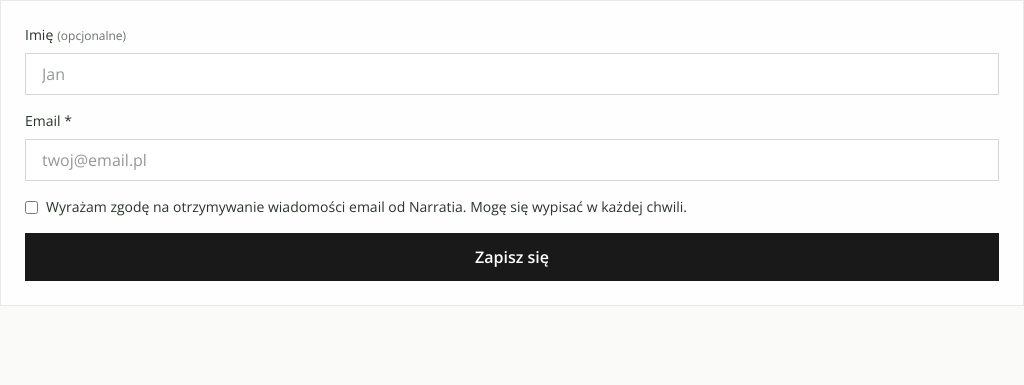
Scenario: EmailSignupForm › Error Handling › should show Polish error message for Polish language
Type "test@example.com" into the field labelled "Email *" at (512, 160), box [25,139,999,181]
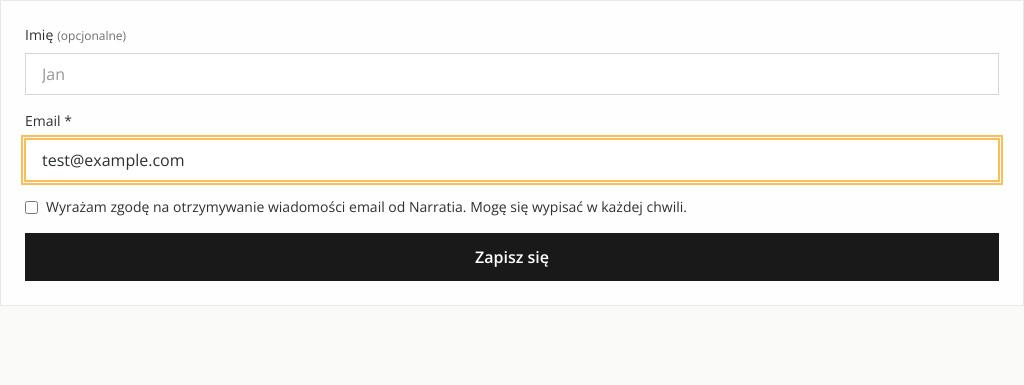
Click the checkbox at (32, 208), box [25,201,38,214]
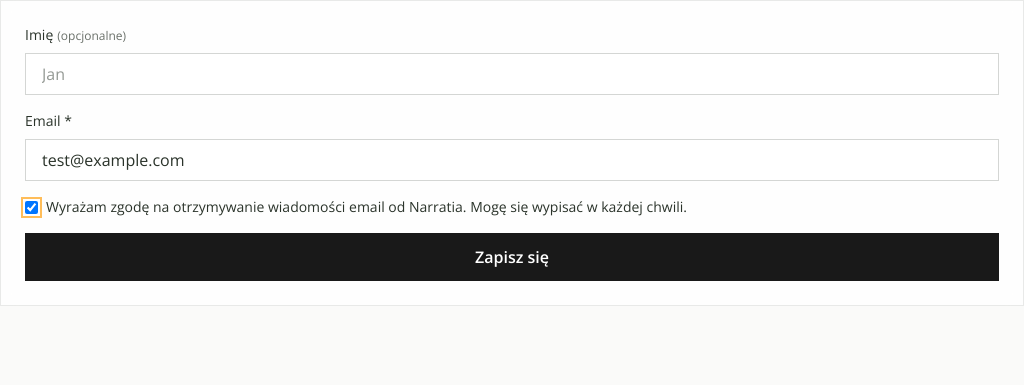
Click the button "Zapisz się" at (512, 257), box [25,233,999,281]
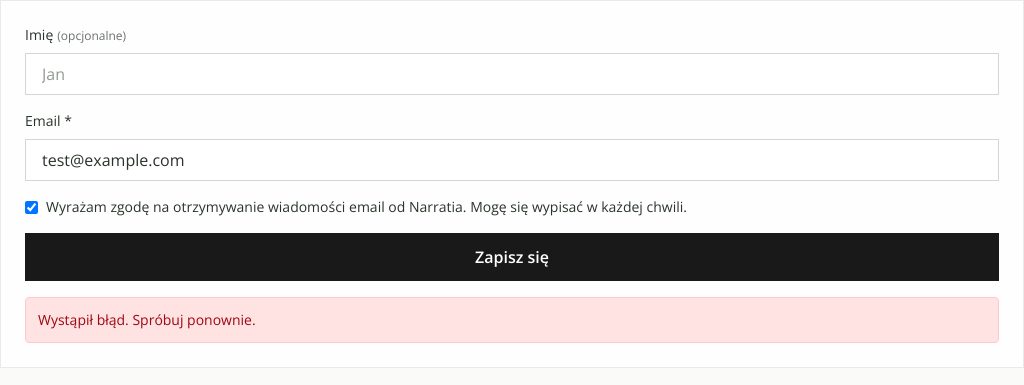
Result: the text "Wystąpił błąd. Spróbuj ponownie." is shown at [25,297,999,343]
